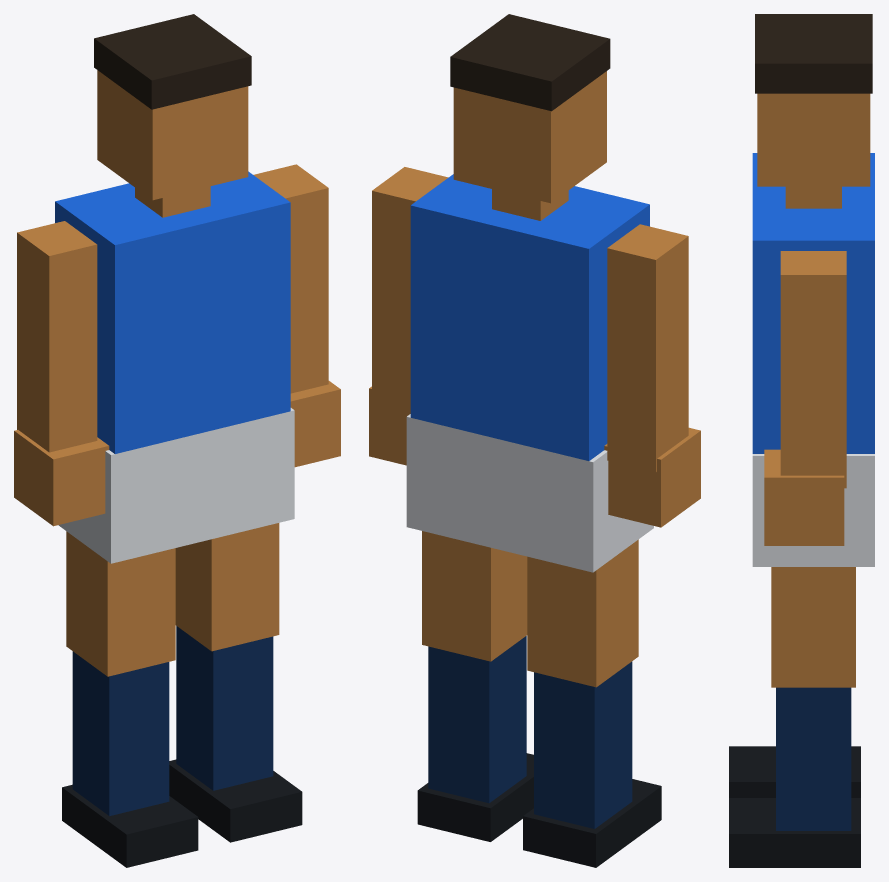
File: jogador.glb
The picture shows the model from 3 angles, left to right: view 1: azimuth 30°, elevation 25°; view 2: azimuth 150°, elevation 25°; view 3: azimuth 270°, elevation 25°; orthographic projection. The views are drawn at different scales.
Parts seen in each view (by area): view 1: jogador; view 2: jogador; view 3: jogador.
Part boxes in pixels (x1,y1,x2,y2): jogador: (14, 14, 340, 867); jogador: (369, 14, 700, 867); jogador: (729, 14, 874, 867).
Bounding box in the file's own units: 0.72 × 1.84 × 0.31.
